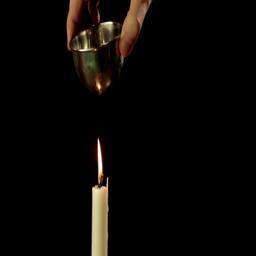fire: (97, 139, 103, 184)
